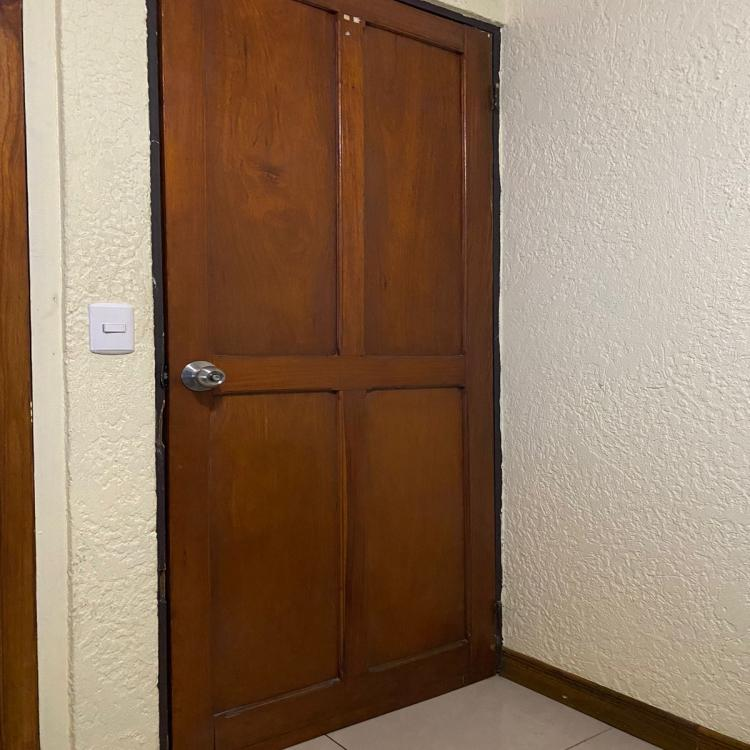ClosedDoor: (148, 0, 530, 750)
